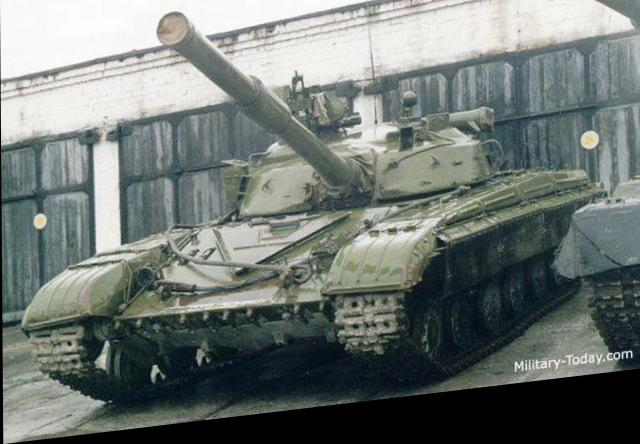tank: (26, 118, 579, 403)
